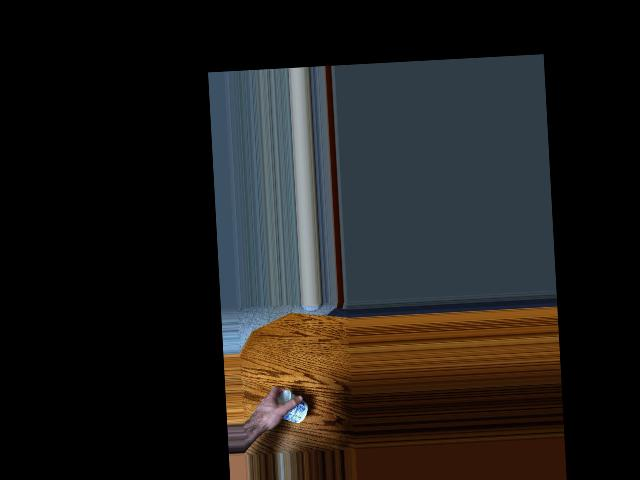cotage: (271, 389, 307, 430)
